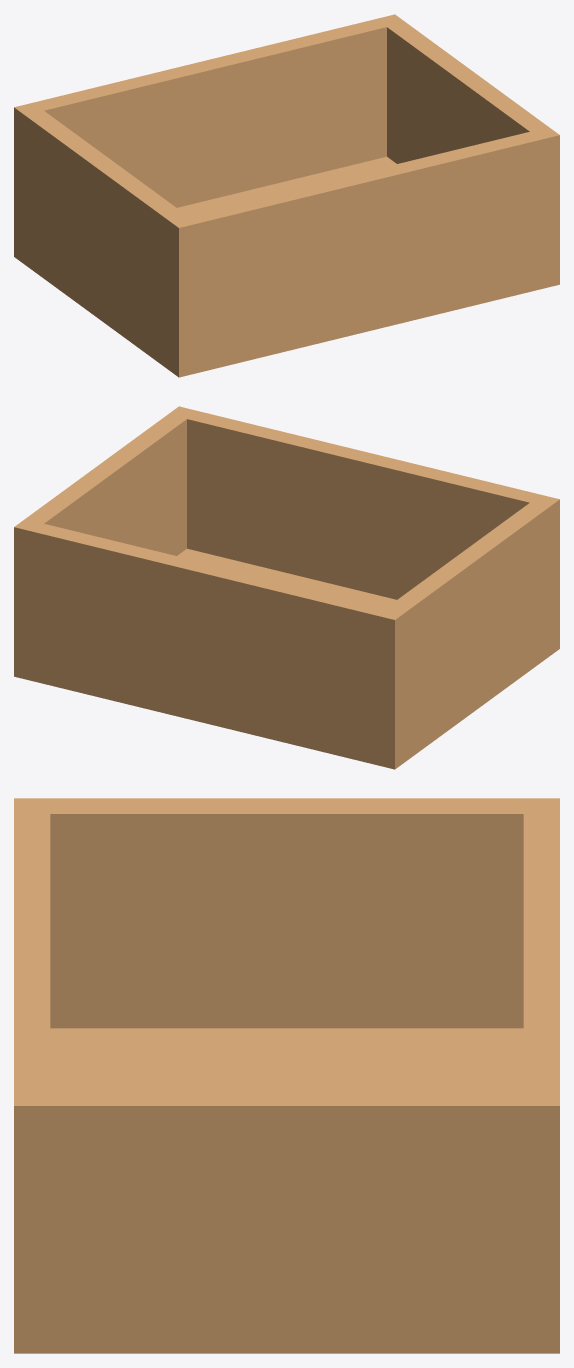
The model's file is empty_box.dae.
3 renders of one model, top to bottom at view 1: azimuth 30°, elevation 25°; view 2: azimuth 150°, elevation 25°; view 3: azimuth 270°, elevation 25°, orthographic. The views are drawn at different scales.
Parts seen in each view (by area): view 1: Cube; view 2: Cube; view 3: Cube.
Boxes of the visible parts, box(x1,y1,x2,y2) form: Cube: box(14, 14, 559, 377); Cube: box(14, 406, 559, 769); Cube: box(14, 798, 559, 1353).
Bounding box in the file's own units: 0.4 × 0.3 × 0.15.
